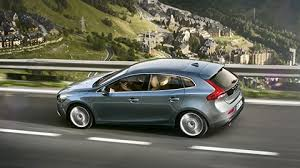car: (55, 57, 245, 137)
